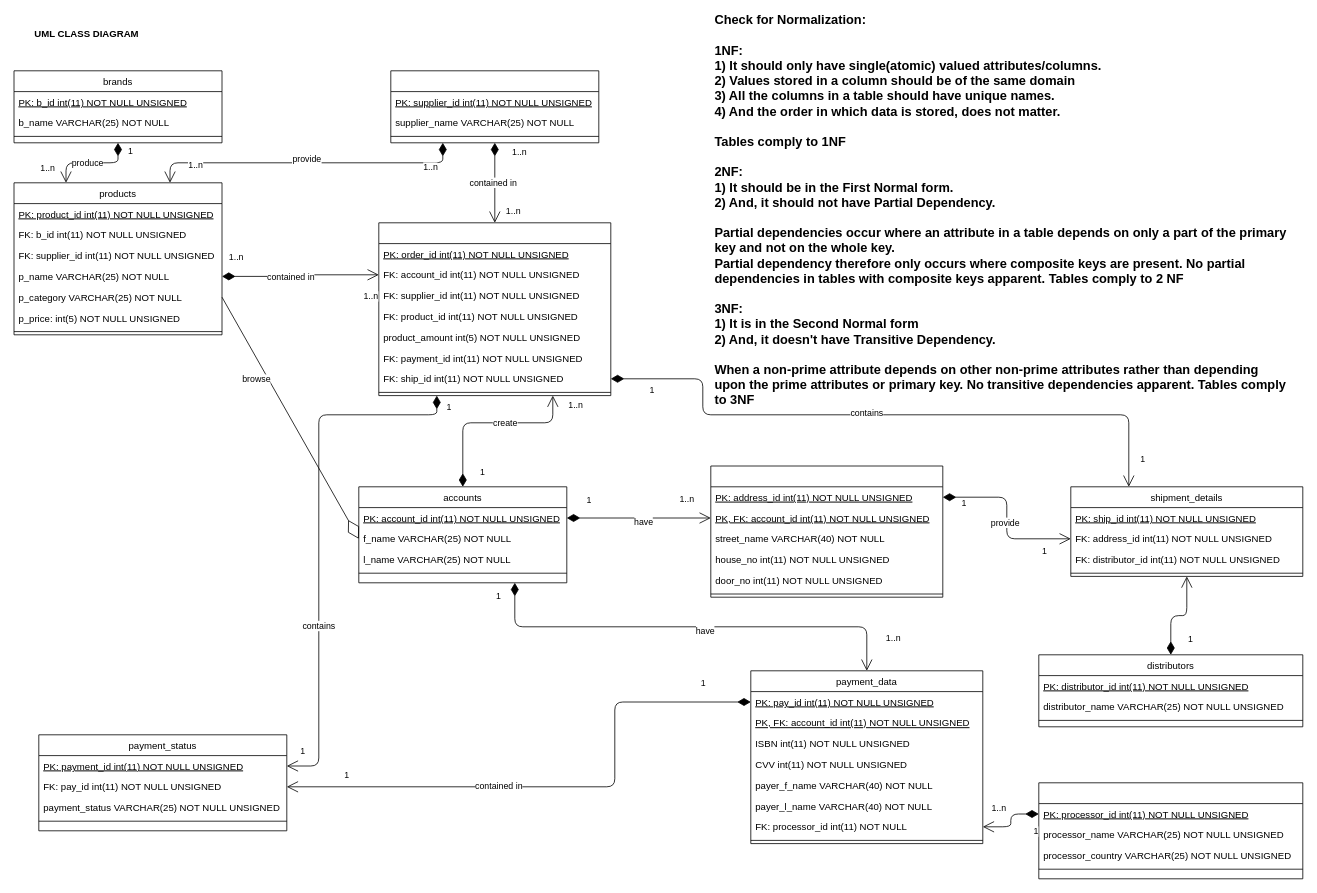
This 1317x893 diagram has some shape labels left out. The box of each missing label's shape, as (x1, y1, x2, y2) in pixels:
orders: (378, 222, 611, 396)
payment_processor: (1038, 782, 1303, 879)
shipping_addresses: (710, 465, 943, 597)
suppliers: (390, 70, 599, 143)
